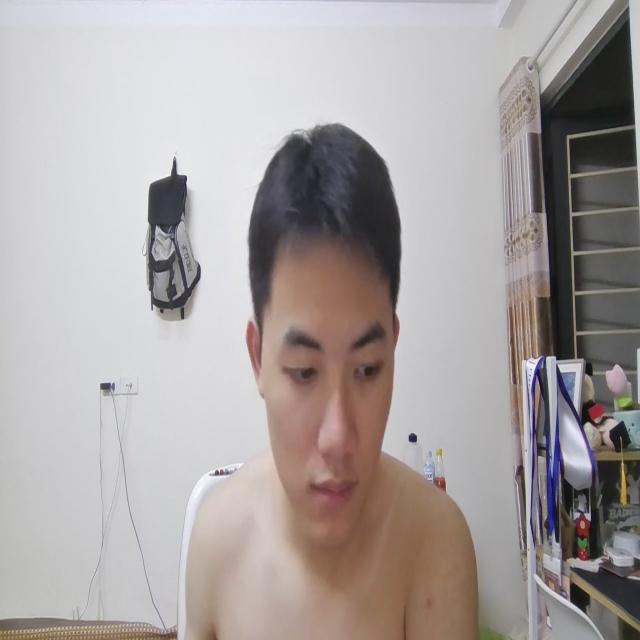student: (183, 119, 477, 640)
